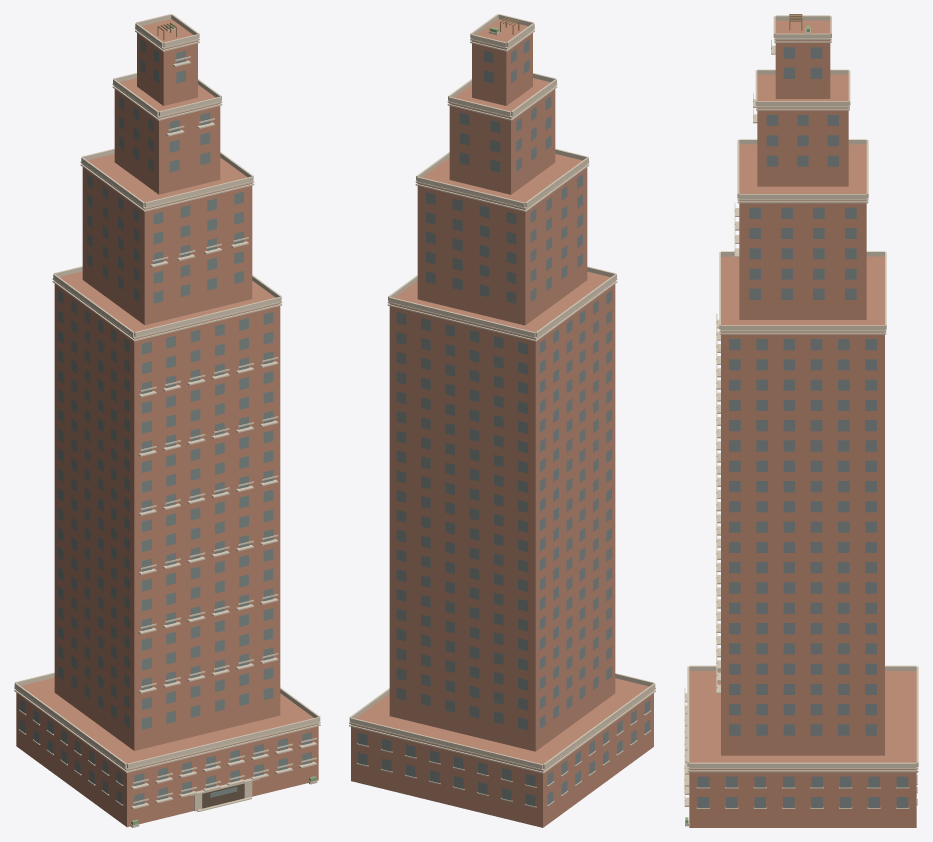
The model's file is residential_4x4_tower_crown.glb.
The picture shows the model from 3 angles, left to right: view 1: azimuth 30°, elevation 25°; view 2: azimuth 150°, elevation 25°; view 3: azimuth 270°, elevation 25°; orthographic projection. The views are drawn at different scales.
Visible parts, largest first — view 1: residential_4x4_tower_crown_0; view 2: residential_4x4_tower_crown_0; view 3: residential_4x4_tower_crown_0.
Part boxes in pixels (bbox=[...]): residential_4x4_tower_crown_0: bbox=[14, 14, 320, 827]; residential_4x4_tower_crown_0: bbox=[349, 14, 655, 827]; residential_4x4_tower_crown_0: bbox=[684, 14, 918, 827].
Bounding box in the file's own units: 31 × 112 × 31.4.
